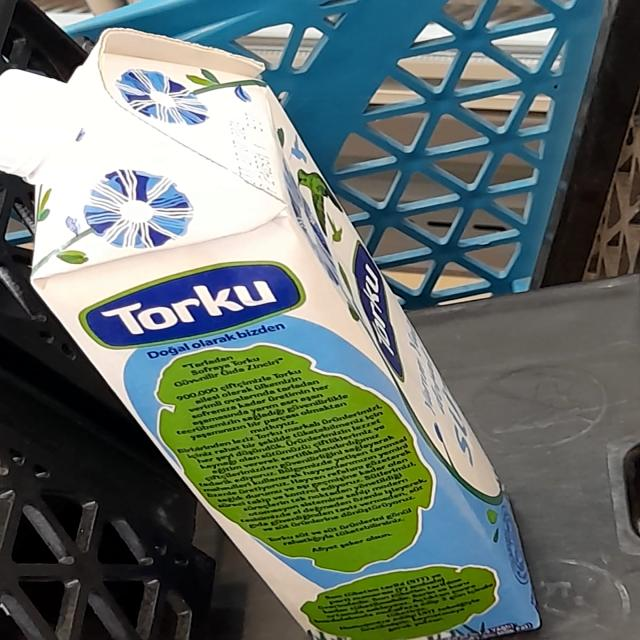milk: (13, 35, 552, 640)
